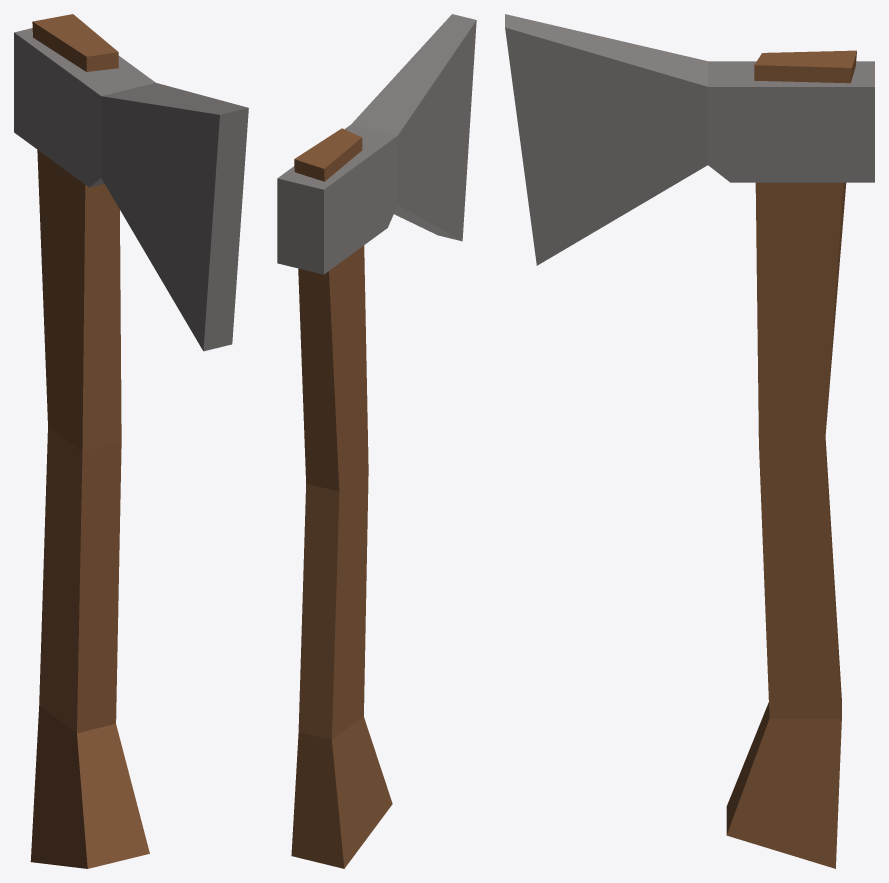
Rendered from axe.glb.
3 views of the same model, side by side, from view 1: azimuth 30°, elevation 25°; view 2: azimuth 150°, elevation 25°; view 3: azimuth 270°, elevation 25° (orthographic). The views are drawn at different scales.
Visible parts, largest first — view 1: axe; view 2: axe; view 3: axe.
Boxes of the visible parts, left/top/right/bottom form: axe: left=14, top=14, right=248, bottom=868; axe: left=277, top=14, right=476, bottom=868; axe: left=505, top=14, right=874, bottom=868.
Size of the model in its own units: 0.0498 by 0.6638 by 0.267.
1 material, 1 textured.
